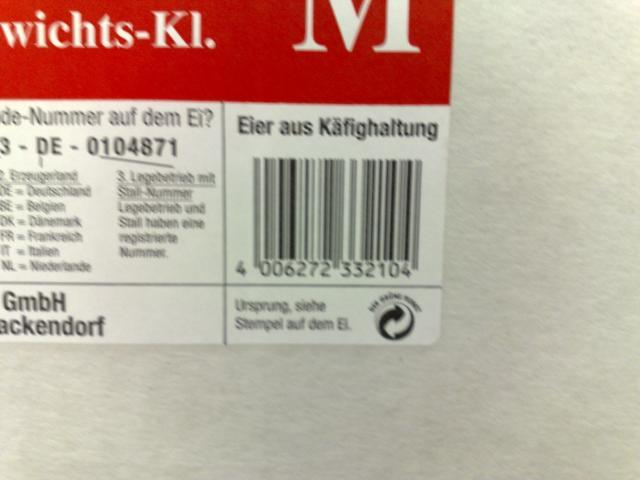Barcode: (222, 153, 432, 286)
